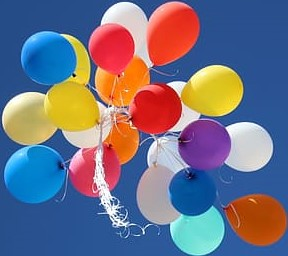Balloon: (4, 146, 68, 204), (146, 2, 201, 66), (181, 64, 244, 117), (21, 30, 77, 85), (227, 195, 288, 245), (2, 91, 57, 144), (69, 143, 120, 197), (179, 119, 231, 170), (128, 83, 181, 132), (45, 82, 101, 127), (171, 209, 225, 255), (225, 124, 274, 172), (89, 24, 135, 75), (137, 163, 174, 222), (171, 168, 217, 214)
